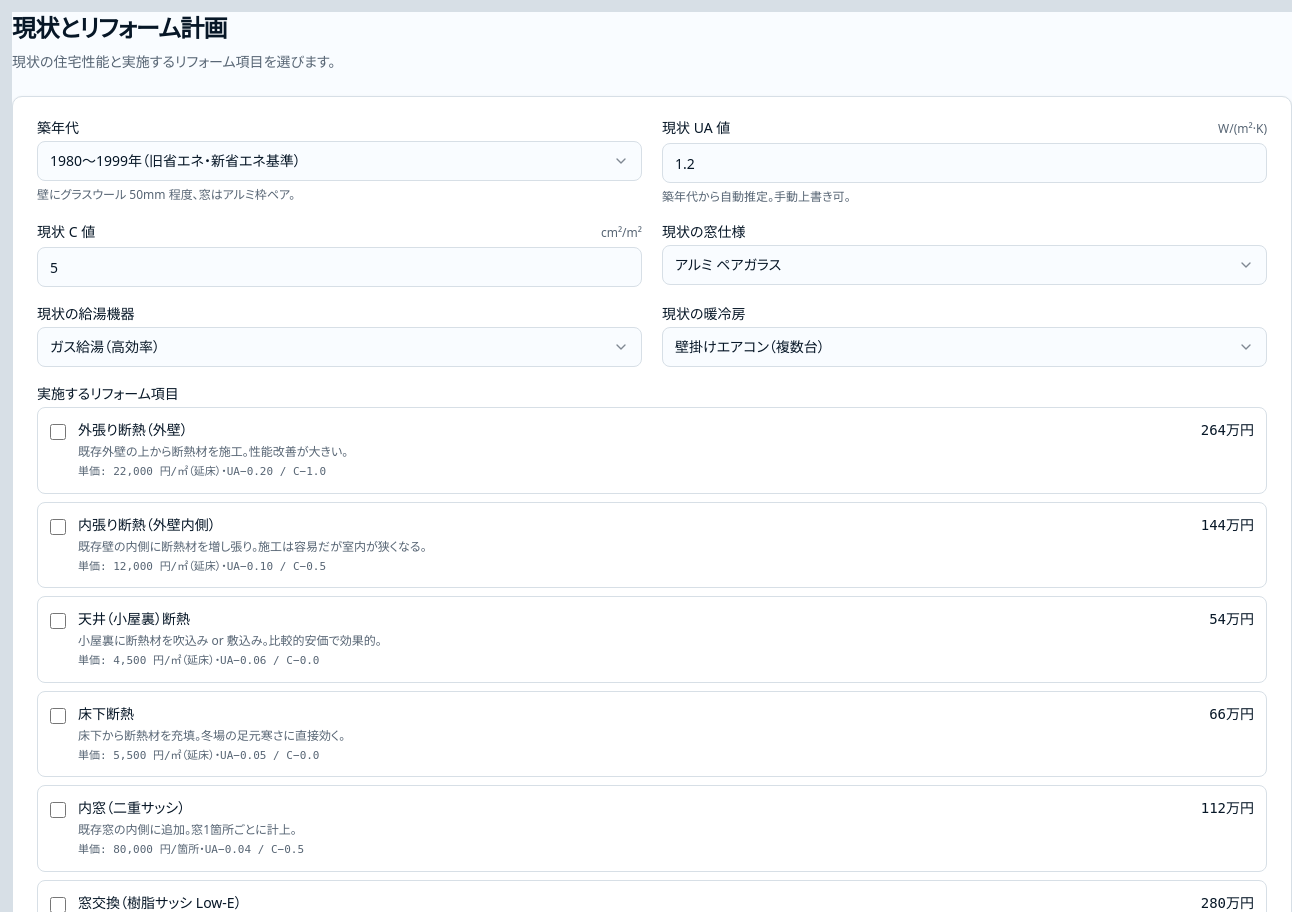
it: RenovationStep interactions › existingC: invalid input is not applied and the reason shows on blur
// existingC ranges from about 1 to a few tens
Replace the text in the field labelled "現状 C 値" with "xx" at (340,267), box [37,247,642,287]
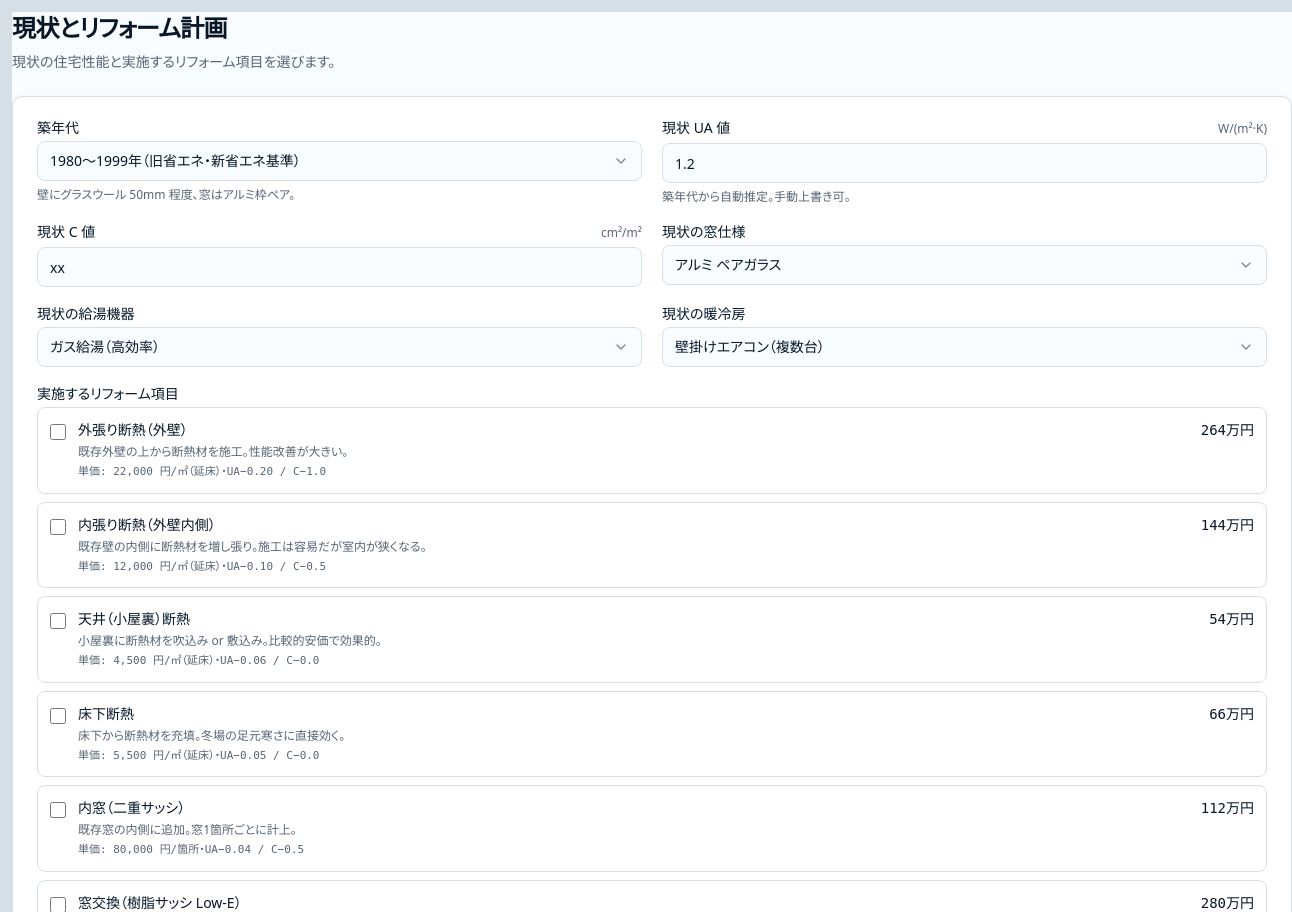
Leave the field labelled "現状 C 値", box [37,247,642,287]
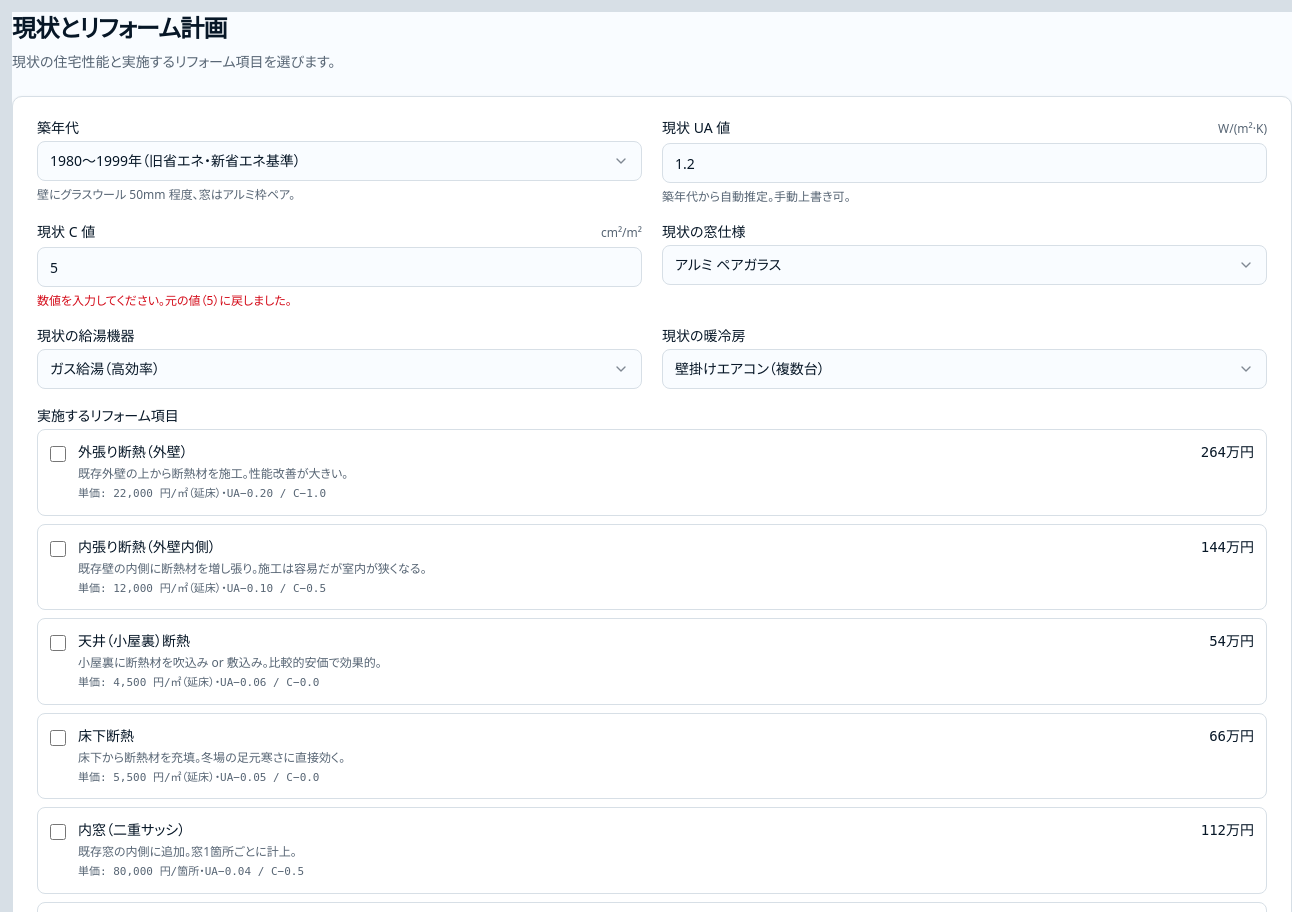
Expected: the text "数値を入力してください。元の値（5）に戻しました。" is shown, [37,292,292,309]
